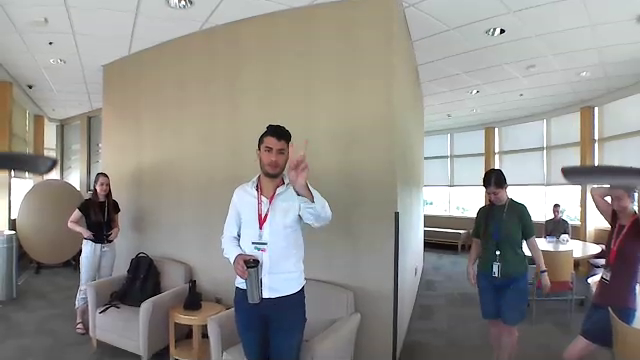peace: (279, 131, 319, 190)
